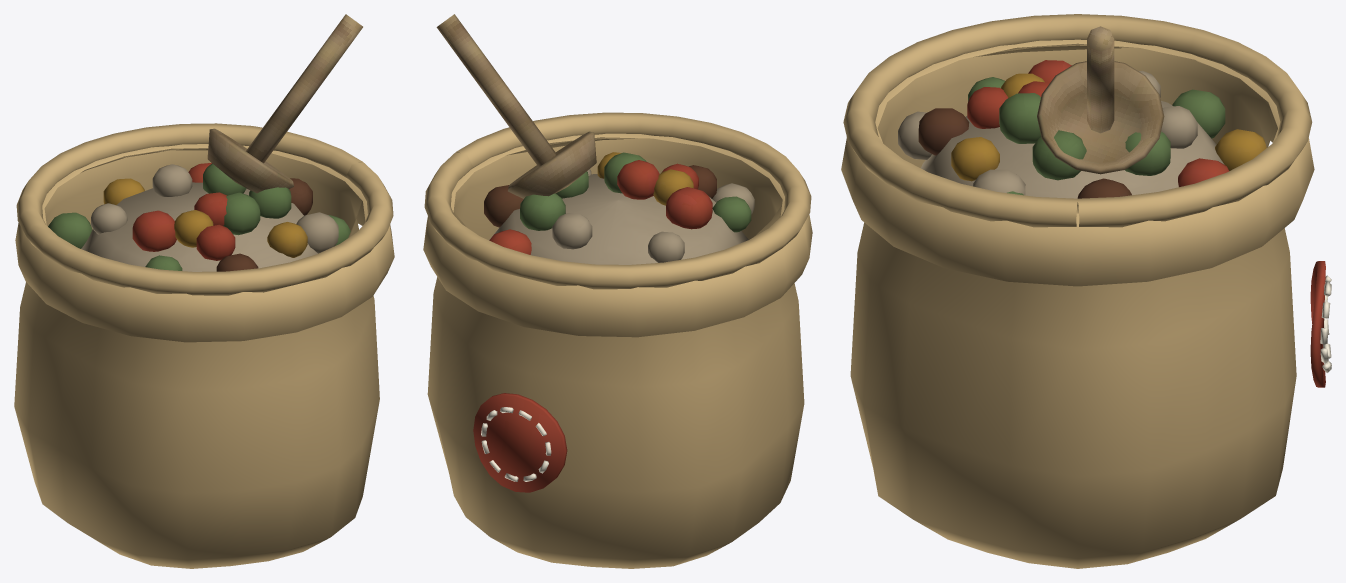
The model's file is pellet_sack_mix.glb.
3 renders of one model, left to right at view 1: azimuth 30°, elevation 25°; view 2: azimuth 150°, elevation 25°; view 3: azimuth 270°, elevation 25°, orthographic. The views are drawn at different scales.
Parts seen in each view (by area): view 1: pellet_sack_mix_hemp, pellet_sack_mix_felt_beige, pellet_sack_mix_wood_light, pellet_sack_mix_felt_green, pellet_sack_mix_felt_red, pellet_sack_mix_felt_yellow, pellet_sack_mix_felt_brown; view 2: pellet_sack_mix_hemp, pellet_sack_mix_felt_beige, pellet_sack_mix_felt_red, pellet_sack_mix_wood_light, pellet_sack_mix_felt_green, pellet_sack_mix_felt_brown, pellet_sack_mix_felt_yellow, pellet_sack_mix_thread; view 3: pellet_sack_mix_hemp, pellet_sack_mix_wood_light, pellet_sack_mix_felt_beige, pellet_sack_mix_felt_green, pellet_sack_mix_felt_red, pellet_sack_mix_felt_yellow, pellet_sack_mix_felt_brown, pellet_sack_mix_thread.
Boxes of the visible parts, left/top/right/bottom form: pellet_sack_mix_hemp: left=14, top=123, right=394, bottom=568; pellet_sack_mix_felt_beige: left=81, top=164, right=338, bottom=271; pellet_sack_mix_wood_light: left=207, top=14, right=362, bottom=193; pellet_sack_mix_felt_green: left=48, top=163, right=350, bottom=270; pellet_sack_mix_felt_red: left=132, top=162, right=235, bottom=260; pellet_sack_mix_felt_yellow: left=103, top=178, right=307, bottom=257; pellet_sack_mix_felt_brown: left=216, top=178, right=312, bottom=271; pellet_sack_mix_hemp: left=423, top=112, right=812, bottom=568; pellet_sack_mix_felt_beige: left=489, top=169, right=754, bottom=264; pellet_sack_mix_felt_red: left=473, top=160, right=712, bottom=492; pellet_sack_mix_wood_light: left=436, top=14, right=596, bottom=198; pellet_sack_mix_felt_green: left=520, top=152, right=751, bottom=232; pellet_sack_mix_felt_brown: left=484, top=165, right=716, bottom=227; pellet_sack_mix_felt_yellow: left=597, top=152, right=693, bottom=205; pellet_sack_mix_thread: left=481, top=407, right=551, bottom=481; pellet_sack_mix_hemp: left=841, top=14, right=1314, bottom=568; pellet_sack_mix_wood_light: left=1037, top=26, right=1164, bottom=174; pellet_sack_mix_felt_beige: left=898, top=70, right=1224, bottom=198; pellet_sack_mix_felt_green: left=968, top=77, right=1225, bottom=195; pellet_sack_mix_felt_red: left=967, top=60, right=1325, bottom=387; pellet_sack_mix_felt_yellow: left=951, top=73, right=1266, bottom=181; pellet_sack_mix_felt_brown: left=918, top=108, right=1131, bottom=198; pellet_sack_mix_thread: left=1320, top=275, right=1331, bottom=372.
Bounding box in the file's own units: 0.4179 × 0.5482 × 0.4312.
8 materials, 6 textured.
